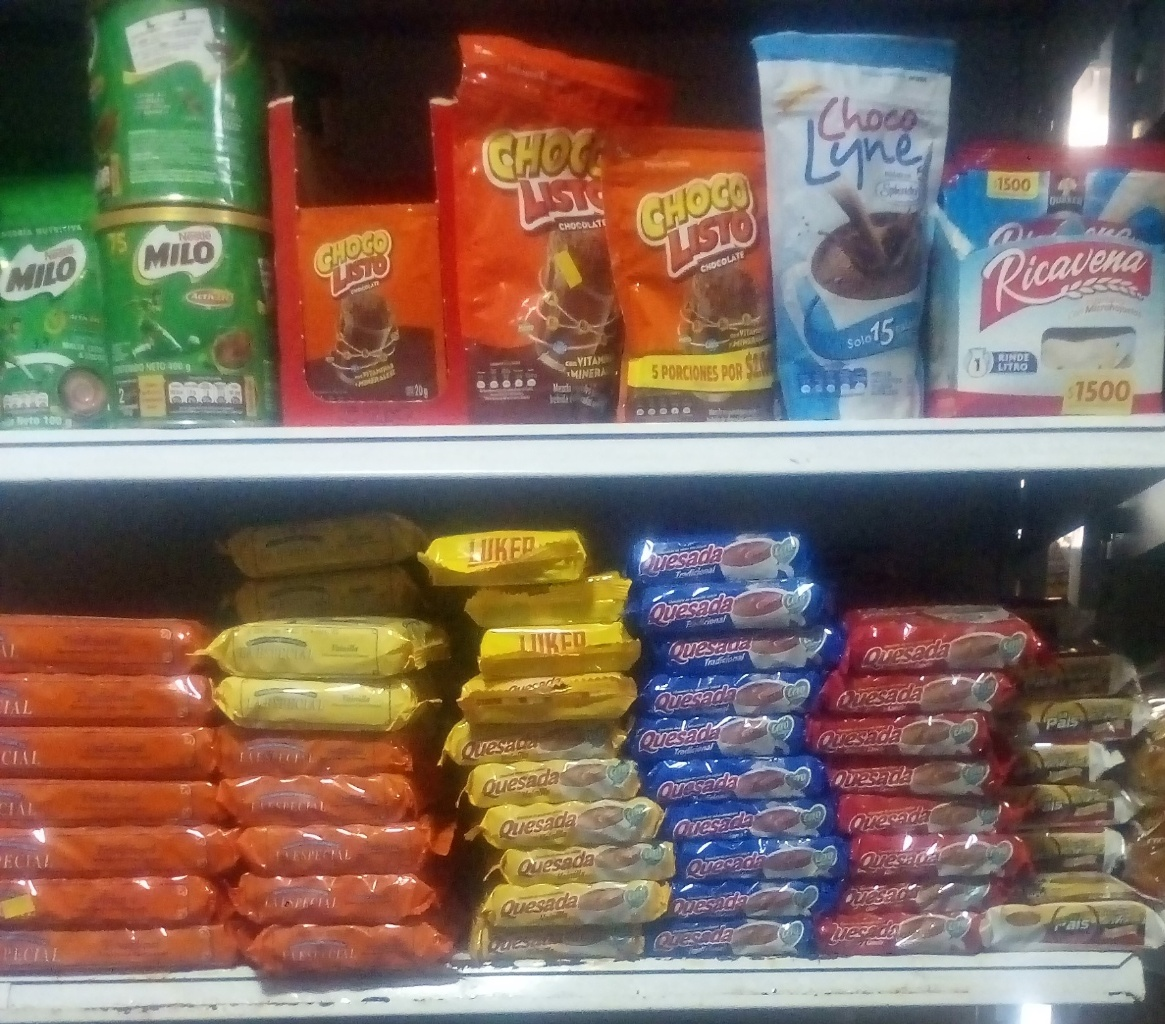COL0170103SOB02000: (285, 206, 446, 396)
COL0170203LAT40000: (100, 207, 276, 414)
